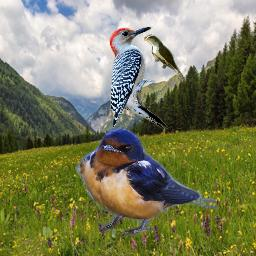Cuckoo: (144, 34, 186, 83)
Swallow: (75, 127, 219, 237)
Woodpecker: (104, 22, 173, 137)
